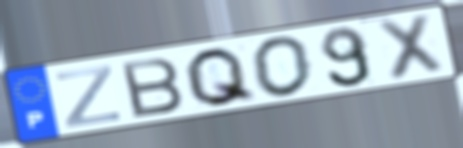9: (319, 25, 377, 90)
B: (117, 55, 186, 120)
O: (249, 33, 316, 100)
Q: (182, 45, 260, 109)
X: (374, 11, 447, 83)
Z: (54, 63, 123, 131)
